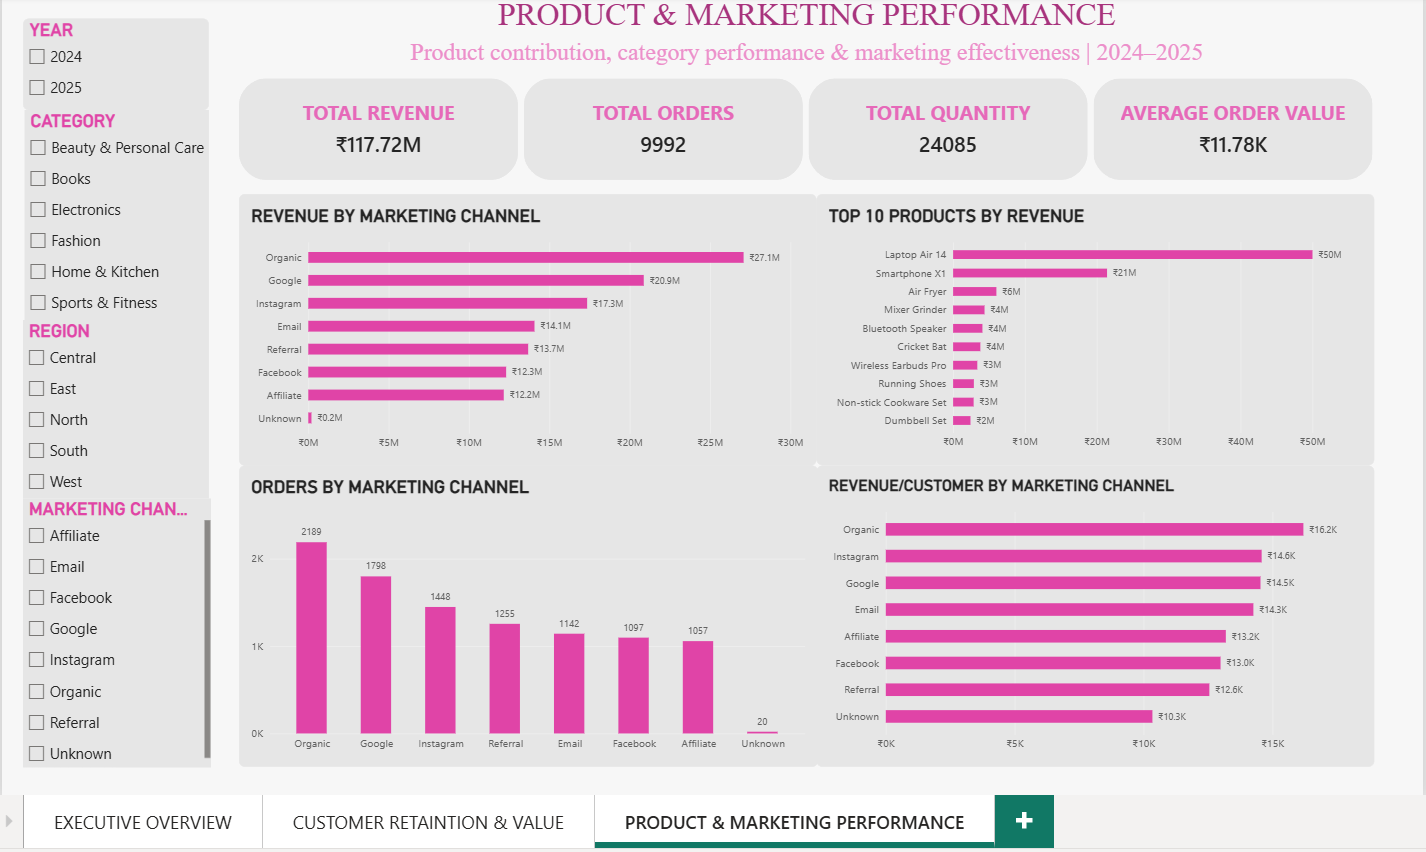

The page's visual inventory and layout, read from the dashboard file:
{"tool":"powerbi","page":{"name":"PRODUCT & MARKETING PERFORMANCE","canvas":[1920,1080],"ordinal":2},"visuals":[{"type":"textbox","box":[320.4,0,1534.9,60.8],"z":0},{"type":"textbox","box":[320.4,56.8,1534.9,42.6],"z":1000},{"type":"barChart","title":"TOP 10 PRODUCTS BY REVENUE","fields":{"Category":["Products.Product_Name"],"Y":["Measures (2).Total Revenue"]},"box":[1101.2,267.7,754.3,367],"z":2000},{"type":"clusteredBarChart","title":"REVENUE BY MARKETING CHANNEL","fields":{"Category":["Transactions.Marketing_Channel"],"Y":["Measures (2).Total Revenue"]},"box":[321.3,267.4,780.8,367.6],"z":3000},{"type":"barChart","title":"REVENUE/CUSTOMER BY MARKETING CHANNEL","fields":{"Category":["Transactions.Marketing_Channel"],"Y":["Measures (2).Revenue per Customer"]},"box":[1101,634.6,754.3,407.5],"z":4000},{"type":"columnChart","title":"ORDERS BY MARKETING CHANNEL","fields":{"Category":["Transactions.Marketing_Channel"],"Y":["Measures (2).Total Orders"]},"box":[320.4,634.6,782.6,407.5],"z":5000},{"type":"slicer","fields":{"Values":["Calendar.Year"]},"box":[28.4,30.4,251.4,123.7],"z":6000},{"type":"slicer","fields":{"Values":["Products.Category"]},"box":[30.4,154.1,249.4,283.9],"z":7000},{"type":"slicer","fields":{"Values":["Transactions.Region"]},"box":[28.4,438,251.4,241.3],"z":8000},{"type":"slicer","fields":{"Values":["Transactions.Marketing_Channel"]},"box":[28.4,679.2,253.4,362.9],"z":9000},{"type":"cardVisual","fields":{"Data":["Measures (2).Total Revenue","Measures (2).Total Orders","Measures (2).Total Quantity","Measures (2).Average Order Value"]},"box":[320.4,111.5,1534.9,137.9],"z":10000}]}

Visuals, with their boxes on the page's 1920x1080 design canvas (x1, y1, x2, y2). These are canvas units, not pixel positions in the 1426x852 screenshot, which may show the page scaled, cropped or inside an application window:
textbox: <region>320, 0, 1855, 61</region>
textbox: <region>320, 57, 1855, 99</region>
"TOP 10 PRODUCTS BY REVENUE" barChart: <region>1101, 268, 1856, 635</region>
"REVENUE BY MARKETING CHANNEL" clusteredBarChart: <region>321, 267, 1102, 635</region>
"REVENUE/CUSTOMER BY MARKETING CHANNEL" barChart: <region>1101, 635, 1855, 1042</region>
"ORDERS BY MARKETING CHANNEL" columnChart: <region>320, 635, 1103, 1042</region>
slicer - Calendar.Year: <region>28, 30, 280, 154</region>
slicer - Products.Category: <region>30, 154, 280, 438</region>
slicer - Transactions.Region: <region>28, 438, 280, 679</region>
slicer - Transactions.Marketing_Channel: <region>28, 679, 282, 1042</region>
cardVisual - Measures (2).Total Revenue x Measures (2).Total Orders: <region>320, 112, 1855, 249</region>
